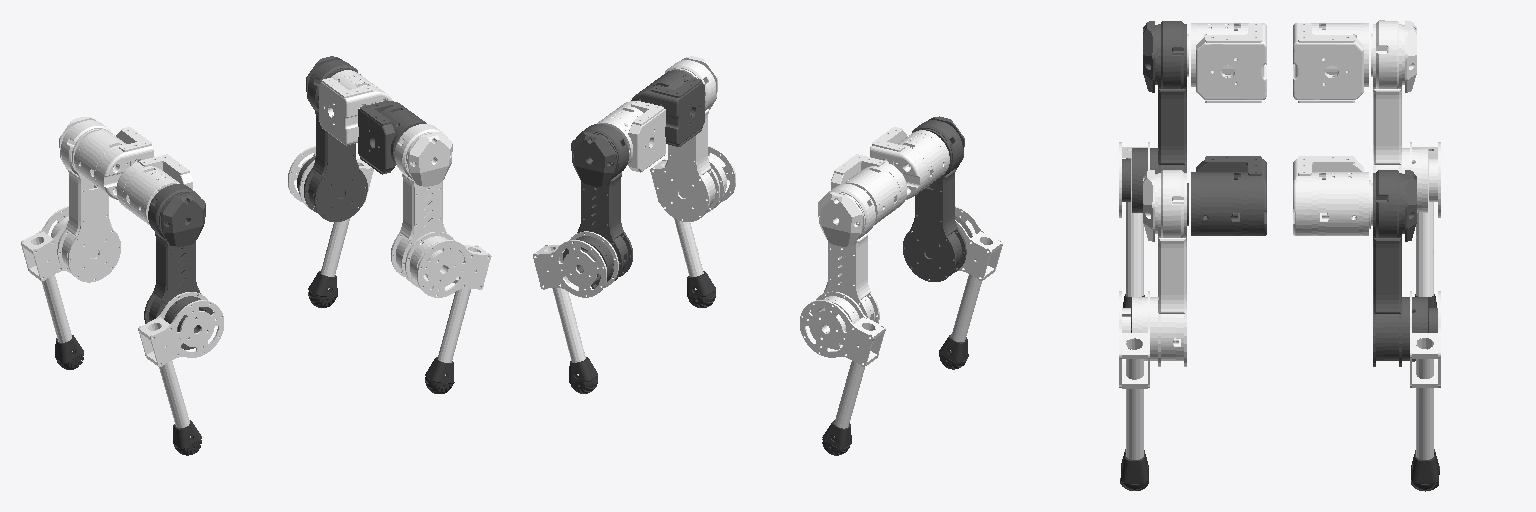
robot.urdf — tinymal:
<?xml version="1.0" encoding="utf-8"?>
<!-- This URDF was automatically created by SolidWorks to URDF Exporter! Originally created by [author] ([email redacted]) 
     Commit Version: 1.6.0-1-g15f4949  Build Version: 1.6.7594.29634
     For more information, please see http://wiki.ros.org/sw_urdf_exporter -->
<robot
  name="tinymal">
  <mujoco>
    <compiler 
      meshdir="[local-path]/Downloads/LocomotionWithNP3O-master/resources/tinymal/meshes" 
      balanceinertia="true" 
      discardvisual="false" />
  </mujoco>

  <link
    name="base">
    <inertial>
     <origin
        xyz="0.0034198 6.4226E-06 0.0033633"
        rpy="0 0 0" />
      <mass
        value="2.2657" />
      <inertia
        ixx="0.0011588"
        ixy="4.4374E-07"
        ixz="-6.9655E-07"
        iyy="0.0028416"
        iyz="-9.2423E-07"
        izz="0.0032559" />
    </inertial>
    <visual>
      <origin
        xyz="0 0 0"
        rpy="0 0 0" />
      <geometry>
        <mesh
          filename="../meshes/base.STL" />
      </geometry>
      <material
        name="">
        <color
          rgba="1 1 1 1" />
      </material>
    </visual>
    <collision>
      <origin
        xyz="0 0 0"
        rpy="0 0 0" />
      <geometry>
         <box size="0.24 0.0935 0.114" />
      </geometry>
    </collision>
  </link>
  <link
    name="FL_hip">
    <inertial>
     <origin
        xyz="0.034298 0.0057266 0.00023908"
        rpy="0 0 0" />
      <mass
        value="0.41137" />
      <inertia
        ixx="0.00013484"
        ixy="-1.0407E-05"
        ixz="-2.0976E-09"
        iyy="0.00014343"
        iyz="-1.9227E-08"
        izz="0.00013842" />
    </inertial>
    <visual>
      <origin
        xyz="0 0 0"
        rpy="0 0 0" />
      <geometry>
        <mesh
          filename="../meshes/FL_hip.STL" />
      </geometry>
      <material
        name="">
        <color
          rgba="1 1 1 1" />
      </material>
    </visual>
    <collision>
      <origin
        xyz="0.04 0 0"
        rpy="0 0 0" />
      <geometry>
          <cylinder radius="0.03" length="0.03" />
      </geometry>
    </collision>
  </link>
  <joint
    name="FL_hip_joint"
    type="revolute">
    <origin
      xyz="0.117615811341093 0.0448519608147388 0.00119438074225783"
      rpy="0 0 0" />
    <parent
      link="base" />
    <child
      link="FL_hip" />
    <axis
      xyz="1 0 0" />
    <limit
      lower="-0.6"
      upper="0.6"
      effort="12"
      velocity="20" />
  </joint>
  <link
    name="FL_thigh">
    <inertial>
     <origin
        xyz="-0.00011993 0.024527 -0.093813"
        rpy="0 0 0" />
      <mass
        value="0.47556" />
      <inertia
        ixx="0.00026384"
        ixy="-3.8167E-09"
        ixz="3.04E-07"
        iyy="0.00029152"
        iyz="6.9218E-08"
        izz="0.00012405" />
    </inertial>
    <visual>
      <origin
        xyz="0 0 0"
        rpy="0 0 0" />
      <geometry>
        <mesh
          filename="../meshes/FL_thigh.STL" />
      </geometry>
      <material
        name="">
        <color
          rgba="0.43922 0.43922 0.43922 1" />
      </material>
    </visual>
    <collision>
      <origin
        xyz="0 0 0"
        rpy="0 0 0" />
      <geometry>
        <mesh
          filename="../meshes/FL_thigh.STL" />
      </geometry>
    </collision>
  </link>
  <joint
    name="FL_thigh_joint"
    type="revolute">
    <origin
      xyz="0.0368115600024336 0.0350142968181736 0"
      rpy="0 -0.000636515673882331 0" />
    <parent
      link="FL_hip" />
    <child
      link="FL_thigh" />
    <axis
      xyz="0 1 0" />
    <limit
      lower="-1.57"
      upper="1.57"
      effort="12"
      velocity="20" />
  </joint>
  <link
    name="FL_calf">
    <inertial>
      <origin
        xyz="-0.0053 -0.0037 -0.023"
        rpy="0 0 0" />
      <mass
        value="0.08" />
      <inertia
        ixx="0.00108"
        ixy="0"
        ixz="0"
        iyy="0.0011"
        iyz="0"
        izz="0.0000464" />
    </inertial>
    <visual>
      <origin
        xyz="0 0 0"
        rpy="0 0 0" />
      <geometry>
        <mesh
          filename="../meshes/FL_calf.STL" />
      </geometry>
      <material
        name="">
        <color
          rgba="1 1 1 1" />
      </material>
    </visual>
 
  </link>
  <joint
    name="FL_calf_joint"
    type="revolute">
    <origin
      xyz="-0.000107063240097405 0.0537500000000011 -0.119583203794824"
      rpy="0 -1.2830852687121 0" />
    <parent
      link="FL_thigh" />
    <child
      link="FL_calf" />
    <axis
      xyz="0 -1 0" />
    <limit
      lower="0"
      upper="2.7"
      effort="12"
      velocity="20" />
  </joint>
  <link
    name="FL_foot">
    <inertial>
      <origin
        xyz="-0.0013699 8.788E-05 0.036476"
        rpy="0 0 0" />
      <mass
        value="0.013878" />
      <inertia
        ixx="1.4304E-06"
        ixy="-2.8538E-10"
        ixz="-2.6032E-09"
        iyy="1.164E-06"
        iyz="6.4563E-09"
        izz="9.1842E-07" />
    </inertial>
    <visual>
      <origin
        xyz="0 0 0"
        rpy="0 0 0" />
      <geometry>
        <mesh
          filename="../meshes/FL_foot.STL" />
      </geometry>
      <material
        name="">
        <color
          rgba="0.298039215686275 0.298039215686275 0.298039215686275 1" />
      </material>
    </visual>
    <collision>
      <origin
        xyz="0.015 0 0"
        rpy="0 0 0" />
      <geometry>
        <sphere radius="0.015" />
      </geometry>
    </collision>
  </link>
  <joint
    name="FL_foot_joint"
    type="fixed" dont_collapse="true">
    <origin
      xyz="-0.144829367995569 -0.00756307155902691 -0.0430544596022255"
      rpy="0 0 0" />
    <parent
      link="FL_calf" />
    <child
      link="FL_foot" />
    <axis
      xyz="0 0 0" />
  </joint>
  <link
    name="FR_hip">
    <inertial>
      <origin
        xyz="0.034111 -0.0054226 9.1807E-06"
        rpy="0 0 0" />
      <mass
        value="0.32" />
      <inertia
        ixx="0.00013528"
        ixy="1.0656E-05"
        ixz="2.0976E-09"
        iyy="0.0001431"
        iyz="-1.9227E-08"
        izz="0.00013918" />
    </inertial>
    <visual>
      <origin
        xyz="0 0 0"
        rpy="0 0 0" />
      <geometry>
        <mesh
          filename="../meshes/FR_hip.STL" />
      </geometry>
      <material
        name="">
        <color
          rgba="0.43922 0.43922 0.43922 1" />
      </material>
    </visual>
    <collision>
      <origin
        xyz="0.04 0 0"
        rpy="0 0 0" />
      <geometry>
          <cylinder radius="0.03" length="0.03" />
      </geometry>
    </collision>
  </link>
  <joint
    name="FR_hip_joint"
    type="revolute">
    <origin
      xyz="0.117615811341093 -0.0451480391852612 0.00119438074225779"
      rpy="0 0 0" />
    <parent
      link="base" />
    <child
      link="FR_hip" />
    <axis
      xyz="1 0 0" />
    <limit
      lower="-0.6"
      upper="0.6"
      effort="12"
      velocity="20" />
  </joint>
  <link
    name="FR_thigh">
    <inertial>
      <origin
        xyz="-2.0321E-05 -0.024528 -0.093858"
        rpy="0 0 0" />
      <mass
        value="0.35" />
      <inertia
        ixx="0.00026387"
        ixy="-3.919E-09"
        ixz="-1.2115E-07"
        iyy="0.00029152"
        iyz="-6.9211E-08"
        izz="0.00012406" />
    </inertial>
    <visual>
      <origin
        xyz="0 0 0"
        rpy="0 0 0" />
      <geometry>
        <mesh
          filename="../meshes/FR_thigh.STL" />
      </geometry>
      <material
        name="">
        <color
          rgba="1 1 1 1" />
      </material>
    </visual>
    <collision>
      <origin
        xyz="0 0 0"
        rpy="0 0 0" />
      <geometry>
        <mesh
          filename="../meshes/FR_thigh.STL" />
      </geometry>
    </collision>
  </link>
  <joint
    name="FR_thigh_joint"
    type="revolute">
    <origin
      xyz="0.0368115600024335 -0.0350142968181737 0"
      rpy="0 0.000636515673882331 0" />
    <parent
      link="FR_hip" />
    <child
      link="FR_thigh" />
    <axis
      xyz="0 1 0" />
    <limit
      lower="-1.57"
      upper="1.57"
      effort="12"
      velocity="20" />
  </joint>
  <link
    name="FR_calf">
    <inertial>
      <origin
        xyz="-0.0053 0.0037 -0.023"
        rpy="0 0 0" />
      <mass
        value="0.08" />
      <inertia
        ixx="0.00108"
        ixy="0"
        ixz="0"
        iyy="0.0011"
        iyz="0"
        izz="0.0000464" />
    </inertial>
    <visual>
      <origin
        xyz="0 0 0"
        rpy="0 0 0" />
      <geometry>
        <mesh
          filename="../meshes/FR_calf.STL" />
      </geometry>
      <material
        name="">
        <color
          rgba="1 1 1 1" />
      </material>
    </visual>
  </link>
  <joint
    name="FR_calf_joint"
    type="revolute">
    <origin
      xyz="-0.000191532759080459 -0.0537499999999988 -0.120380600355233"
      rpy="0 -1.2800888506786 0" />
    <parent
      link="FR_thigh" />
    <child
      link="FR_calf" />
    <axis
      xyz="0 -1 0" />
    <limit
      lower="0"
      upper="2.7"
      effort="12"
      velocity="20" />
  </joint>
  <link
    name="FR_foot">
    <inertial>
      <origin
        xyz="0.014077 8.8435E-05 0.0015504"
        rpy="0 0 0" />
      <mass
        value="0.013878" />
      <inertia
        ixx="1.4303E-06"
        ixy="-2.6854E-10"
        ixz="-2.6102E-09"
        iyy="1.164E-06"
        iyz="6.5179E-09"
        izz="9.184E-07" />
    </inertial>
    <visual>
      <origin
        xyz="0 0 0"
        rpy="0 0 0" />
      <geometry>
        <mesh
          filename="../meshes/FR_foot.STL" />
      </geometry>
      <material
        name="">
        <color
          rgba="0.298039215686275 0.298039215686275 0.298039215686275 1" />
      </material>
    </visual>
    <collision>
      <origin
        xyz="0.0 0.015 0"
        rpy="0 0 0" />
      <geometry>
        <sphere radius="0.015" />
      </geometry>
    </collision>
  </link>
  <joint
    name="FR_foot_joint"
    type="fixed" dont_collapse="true">
    <origin
      xyz="-0.144255308338313 0.00743692844097307 -0.0430544596022255"
      rpy="0 -1.39975108426149 -1.5707963267949" />
    <parent
      link="FR_calf" />
    <child
      link="FR_foot" />
    <axis
      xyz="0 0 0" />
  </joint>
  <link
    name="RL_hip">
    <inertial>
       <origin
        xyz="-0.034111 0.0054226 9.1807E-06"
        rpy="0 0 0" />
      <mass
        value="0.32" />
      <inertia
        ixx="0.00013528"
        ixy="1.0656E-05"
        ixz="-2.0976E-09"
        iyy="0.0001431"
        iyz="1.9227E-08"
        izz="0.00013918" />
    </inertial>
    <visual>
      <origin
        xyz="0 0 0"
        rpy="0 0 0" />
      <geometry>
        <mesh
          filename="../meshes/RL_hip.STL" />
      </geometry>
      <material
        name="">
        <color
          rgba="1 1 1 1" />
      </material>
    </visual>
    <collision>
      <origin
        xyz="-0.04 0 0"
        rpy="0 0 0" />
      <geometry>
          <cylinder radius="0.03" length="0.03" />
      </geometry>
    </collision>
  </link>
  <joint
    name="RL_hip_joint"
    type="revolute">
    <origin
      xyz="-0.115396683031257 0.0448519608147397 0.00119438074225779"
      rpy="0 0 0" />
    <parent
      link="base" />
    <child
      link="RL_hip" />
    <axis
      xyz="1 0 0" />
    <limit
      lower="-0.6"
      upper="0.6"
      effort="12"
      velocity="20" />
  </joint>
  <link
    name="RL_thigh">
    <inertial>
      <origin
        xyz="7.9942E-05 0.024528 -0.093858"
        rpy="0 0 0" />
      <mass
        value="0.35" />
      <inertia
        ixx="0.00026387"
        ixy="-3.963E-09"
        ixz="3.1445E-08"
        iyy="0.00029152"
        iyz="6.9208E-08"
        izz="0.00012407" />
    </inertial>
    <visual>
      <origin
        xyz="0 0 0"
        rpy="0 0 0" />
      <geometry>
        <mesh
          filename="../meshes/RL_thigh.STL" />
      </geometry>
      <material
        name="">
        <color
          rgba="1 1 1 1" />
      </material>
    </visual>
    <collision>
      <origin
        xyz="0 0 0"
        rpy="0 0 0" />
      <geometry>
        <mesh
          filename="../meshes/RL_thigh.STL" />
      </geometry>
    </collision>
  </link>
  <joint
    name="RL_thigh_joint"
    type="revolute">
    <origin
      xyz="-0.0368115600024335 0.0350142968181737 0"
      rpy="0 0 0" />
    <parent
      link="RL_hip" />
    <child
      link="RL_thigh" />
    <axis
      xyz="0 -1 0" />
    <limit
      lower="-1.57"
      upper="1.57"
      effort="12"
      velocity="20" />
  </joint>
  <link
    name="RL_calf">
    <inertial>
      <origin
        xyz="-0.0053 -0.0037 0.023"
        rpy="0 0 0" />
      <mass
        value="0.08" />
      <inertia
        ixx="0.00108"
        ixy="0"
        ixz="0"
        iyy="0.0011"
        iyz="0"
        izz="0.0000464" />
    </inertial>
    <visual>
      <origin
        xyz="0 0 0"
        rpy="0 0 0" />
      <geometry>
        <mesh
          filename="../meshes/RL_calf.STL" />
      </geometry>
      <material
        name="">
        <color
          rgba="1 1 1 1" />
      </material>
    </visual>
  </link>
  <joint
    name="RL_calf_joint"
    type="revolute">
    <origin
      xyz="0.000259006728275737 0.0537500000000001 -0.120384637489192"
      rpy="-3.14159265358979 -1.3033681821733 3.14159265358979" />
    <parent
      link="RL_thigh" />
    <child
      link="RL_calf" />
    <axis
      xyz="0 1 0" />
    <limit
      lower="0"
      upper="2.7"
      effort="12"
      velocity="20" />
  </joint>
  <link
    name="RL_foot">
    <inertial>
        <origin
        xyz="0.014077 8.7685E-05 0.0015508"
        rpy="0 0 0" />
      <mass
        value="0.013878" />
      <inertia
        ixx="1.4303E-06"
        ixy="-2.8278E-10"
        ixz="-2.5997E-09"
        iyy="1.164E-06"
        iyz="6.4722E-09"
        izz="9.184E-07" />
    </inertial>
    <visual>
      <origin
        xyz="0 0 0"
        rpy="0 0 0" />
      <geometry>
        <mesh
          filename="../meshes/RL_foot.STL" />
      </geometry>
      <material
        name="">
        <color
          rgba="0.298039215686275 0.298039215686275 0.298039215686275 1" />
      </material>
    </visual>
    <collision>
      <origin
        xyz="0.015 0 0"
        rpy="0 0 0" />
      <geometry>
        <sphere radius="0.015" />
      </geometry>
    </collision>
  </link>
  <joint
    name="RL_foot_joint"
    type="fixed" dont_collapse="true">
    <origin
      xyz="-0.14426 -0.0075631 0.039712"
      rpy="0 0 0" />
    <parent
      link="RL_calf" />
    <child
      link="RL_foot" />
    <axis
      xyz="0 0 0" />
  </joint>
  <link
    name="RR_hip">
    <inertial>
     <origin
        xyz="-0.034111 -0.0054226 -9.1807E-06"
        rpy="0 0 0" />
      <mass
        value="0.32" />
      <inertia
        ixx="0.00013528"
        ixy="-1.0656E-05"
        ixz="2.0976E-09"
        iyy="0.0001431"
        iyz="1.9227E-08"
        izz="0.00013918" />
    </inertial>
    <visual>
      <origin
        xyz="0 0 0"
        rpy="0 0 0" />
      <geometry>
        <mesh
          filename="../meshes/RR_hip.STL" />
      </geometry>
      <material
        name="">
        <color
          rgba="1 1 1 1" />
      </material>
    </visual>
    <collision>
      <origin
        xyz="-0.04 0 0"
        rpy="0 0 0" />
      <geometry>
          <cylinder radius="0.03" length="0.03" />
      </geometry>
    </collision>
  </link>
  <joint
    name="RR_hip_joint"
    type="revolute">
    <origin
      xyz="-0.1154 -0.045148 0.0011944"
      rpy="0 0 0" />
    <parent
      link="base" />
    <child
      link="RR_hip" />
    <axis
      xyz="1 0 0" />
    <limit
      lower="-0.6"
      upper="0.6"
      effort="12"
      velocity="20" />
  </joint>
  <link
    name="RR_thigh">
    <inertial>
     <origin
        xyz="6.0298E-05 -0.024527 -0.093813"
        rpy="0 0 0" />
      <mass
        value="0.47556" />
      <inertia
        ixx="0.00026384"
        ixy="-3.8608E-09"
        ixz="-2.1564E-07"
        iyy="0.00029152"
        iyz="-6.9216E-08"
        izz="0.00012405" />
    </inertial>
    <visual>
      <origin
        xyz="0 0 0"
        rpy="0 0 0" />
      <geometry>
        <mesh
          filename="../meshes/RR_thigh.STL" />
      </geometry>
      <material
        name="">
        <color
          rgba="0.43922 0.43922 0.43922 1" />
      </material>
    </visual>
    <collision>
      <origin
        xyz="0 0 0"
        rpy="0 0 0" />
      <geometry>
        <mesh
          filename="../meshes/RR_thigh.STL" />
      </geometry>
    </collision>
  </link>
  <joint
    name="RR_thigh_joint"
    type="revolute">
    <origin
      xyz="-0.0368115600024335 -0.0350142968181737 0"
      rpy="0 0 0" />
    <parent
      link="RR_hip" />
    <child
      link="RR_thigh" />
    <axis
      xyz="0 -1 0" />
    <limit
      lower="-1.57"
      upper="1.57"
      effort="12"
      velocity="20" />
  </joint>
  <link
    name="RR_calf">
    <inertial>
      <origin
        xyz="-0.0053 0.0037 0.023"
        rpy="0 0 0" />
      <mass
        value="0.08" />
      <inertia
        ixx="0.00108"
        ixy="0"
        ixz="0"
        iyy="0.0011"
        iyz="0"
        izz="0.0000464" />
    </inertial>
    <visual>
      <origin
        xyz="0 0 0"
        rpy="0 0 0" />
      <geometry>
        <mesh
          filename="../meshes/RR_calf.STL" />
      </geometry>
      <material
        name="">
        <color
          rgba="1 1 1 1" />
      </material>
    </visual>
  </link>
  <joint
    name="RR_calf_joint"
    type="revolute">
    <origin
      xyz="3.67726187057993E-05 -0.05375 -0.119582482181542"
      rpy="3.14159265358979 -1.29768930288204 -3.14159265358979" />
    <parent
      link="RR_thigh" />
    <child
      link="RR_calf" />
    <axis
      xyz="0 1 0" />
    <limit
      lower="0"
      upper="2.7"
      effort="12"
      velocity="20" />
  </joint>
  <link
    name="RR_foot">
    <inertial>
        <origin
        xyz="0.014077 -8.7882E-05 -0.0015507"
        rpy="0 0 0" />
      <mass
        value="0.013878" />
      <inertia
        ixx="1.4304E-06"
        ixy="2.8543E-10"
        ixz="2.6033E-09"
        iyy="1.164E-06"
        iyz="6.4564E-09"
        izz="9.1842E-07" />
    </inertial>
    <visual>
      <origin
        xyz="0 0 0"
        rpy="0 0 0" />
      <geometry>
        <mesh
          filename="../meshes/RR_foot.STL" />
      </geometry>
      <material
        name="">
        <color
          rgba="0.298039215686275 0.298039215686275 0.298039215686275 1" />
      </material>
    </visual>
    <collision>
      <origin
        xyz="0.015 0 0"
        rpy="0 0 0" />
      <geometry>
        <sphere radius="0.015" />
      </geometry>
    </collision>
  </link>
  <joint
    name="RR_foot_joint"
    type="fixed" dont_collapse="true">
    <origin
      xyz="-0.14483 0.0075631 0.043054"
      rpy="0 0 0" />
    <parent
      link="RR_calf" />
    <child
      link="RR_foot" />
    <axis
      xyz="0 0 0" />
  </joint>
</robot>

--- What the picture shows (computed from the rendered views, not written in the file) ---
Views: 3 orthographic renders of the robot side by side, from view 1: azimuth 30°, elevation 25°; view 2: azimuth 150°, elevation 25°; view 3: azimuth 270°, elevation 25°.
Model tinymal with 17 links and 16 joints (12 revolute, 4 fixed), rooted at base, posed all joints at 0.
Links seen in each view (by area): view 1: FR_thigh, RL_thigh, RR_thigh, FL_thigh, RR_calf, FR_calf, RL_hip, FL_hip, FR_hip, RL_calf, RR_hip, FL_calf (+4 smaller); view 2: FL_thigh, RR_thigh, RL_thigh, FR_thigh, RL_calf, FL_calf, RR_hip, FR_hip, FL_hip, RR_calf, RL_hip, FR_calf (+4 smaller); view 3: FL_thigh, FR_thigh, RL_thigh, RR_thigh, FL_hip, RL_hip, RR_hip, FR_hip, FR_calf, FL_calf, RL_calf, RR_calf (+2 smaller).
Link boxes in pixels (x1=…): FR_thigh: x1=391, y1=124, x2=460, y2=288; RL_thigh: x1=51, y1=117, x2=120, y2=282; RR_thigh: x1=144, y1=184, x2=213, y2=349; FL_thigh: x1=297, y1=56, x2=367, y2=221; RR_calf: x1=138, y1=292, x2=223, y2=437; FR_calf: x1=405, y1=232, x2=491, y2=375; RL_hip: x1=74, y1=127, x2=153, y2=199; FL_hip: x1=319, y1=70, x2=392, y2=145; FR_hip: x1=358, y1=101, x2=426, y2=174; RL_calf: x1=21, y1=206, x2=72, y2=351; RR_hip: x1=117, y1=154, x2=192, y2=224; FL_calf: x1=288, y1=146, x2=373, y2=289; FL_thigh: x1=563, y1=124, x2=632, y2=288; RR_thigh: x1=903, y1=116, x2=972, y2=281; RL_thigh: x1=810, y1=184, x2=879, y2=349; FR_thigh: x1=656, y1=56, x2=726, y2=221; RL_calf: x1=800, y1=291, x2=885, y2=436; FL_calf: x1=533, y1=231, x2=618, y2=375; RR_hip: x1=870, y1=127, x2=949, y2=199; FR_hip: x1=631, y1=70, x2=704, y2=146; FL_hip: x1=597, y1=101, x2=665, y2=172; RR_calf: x1=950, y1=206, x2=1002, y2=350; RL_hip: x1=831, y1=154, x2=906, y2=224; FR_calf: x1=650, y1=146, x2=735, y2=289; FL_thigh: x1=1373, y1=170, x2=1437, y2=366; FR_thigh: x1=1122, y1=170, x2=1186, y2=366; RL_thigh: x1=1373, y1=20, x2=1437, y2=212; RR_thigh: x1=1122, y1=21, x2=1186, y2=212; FL_hip: x1=1293, y1=156, x2=1372, y2=235; RL_hip: x1=1293, y1=23, x2=1372, y2=102; RR_hip: x1=1187, y1=23, x2=1266, y2=102; FR_hip: x1=1187, y1=156, x2=1266, y2=235; FR_calf: x1=1119, y1=291, x2=1149, y2=459; FL_calf: x1=1410, y1=291, x2=1440, y2=459; RL_calf: x1=1410, y1=142, x2=1440, y2=296; RR_calf: x1=1119, y1=142, x2=1149, y2=296.
Bounding box of the posed robot: 0.4237 × 0.2805 × 0.3032 m (x, y, z).
Meshes: 17 distinct files referenced, 16 mesh visuals loaded (16 binary STL); not drawn: 1 (reference not matched to a file when rendering).